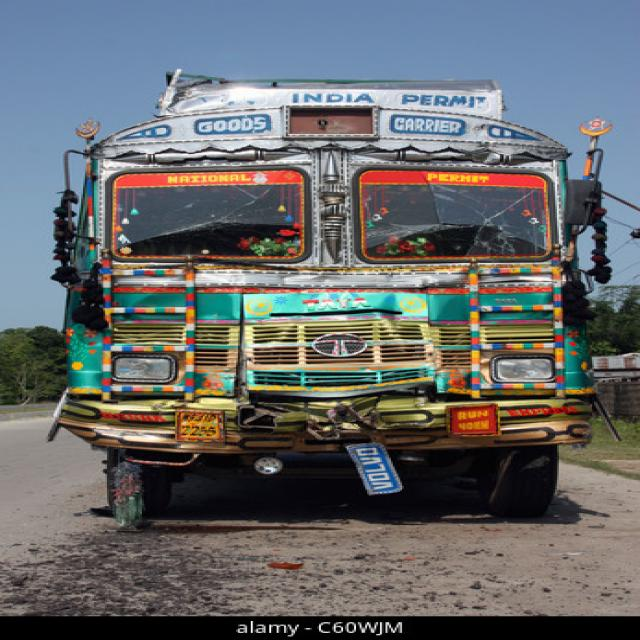normal_truck: (46, 72, 594, 529)
